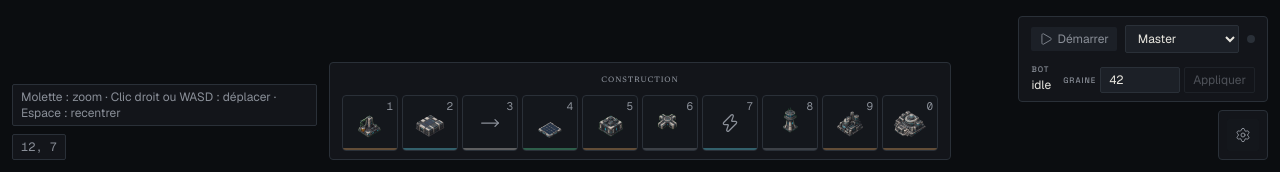
Test: GameHUD › activates extractor placement on first click
Click the button named "Extracteur".
click(370, 123)  # box [342, 95, 398, 151]
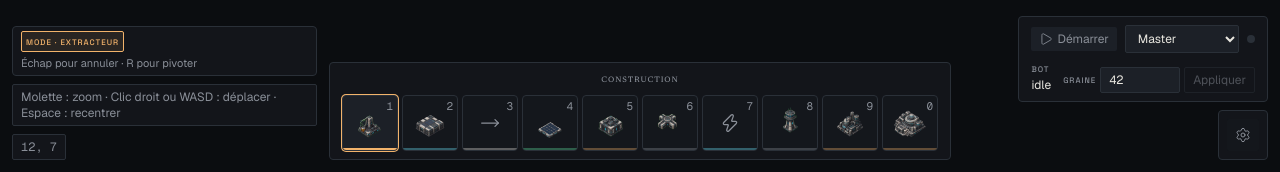
Now the button named "Extracteur" is pressed, box [342, 95, 398, 151]
